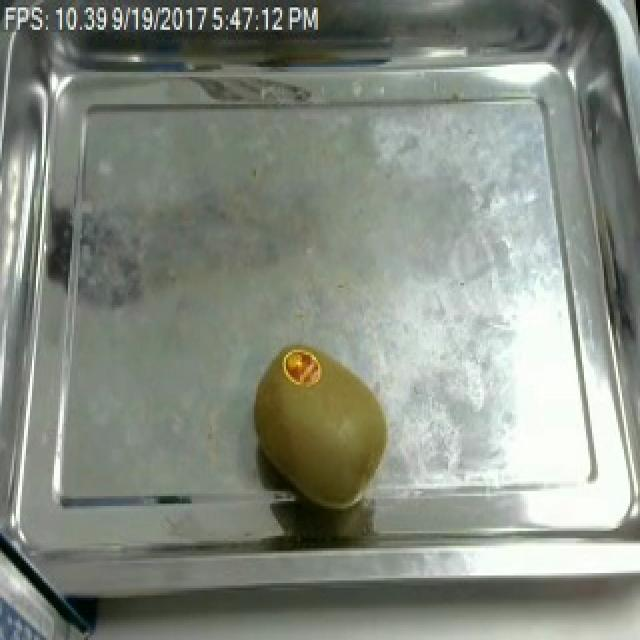Fruit: (246, 337, 400, 516)
